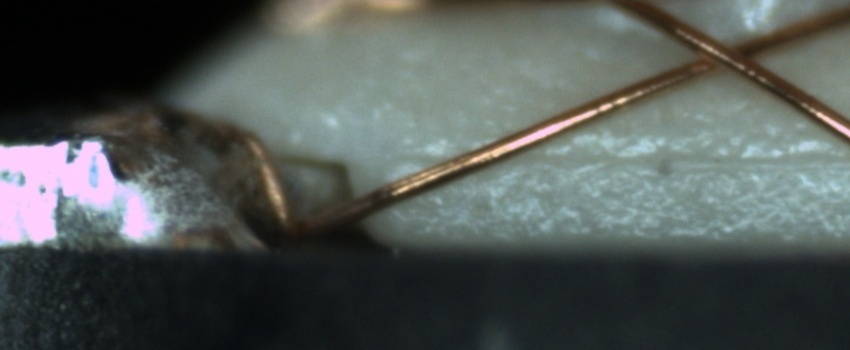CL: (677, 26, 776, 82)
DL: (393, 129, 849, 186)
TE: (242, 128, 293, 237)
